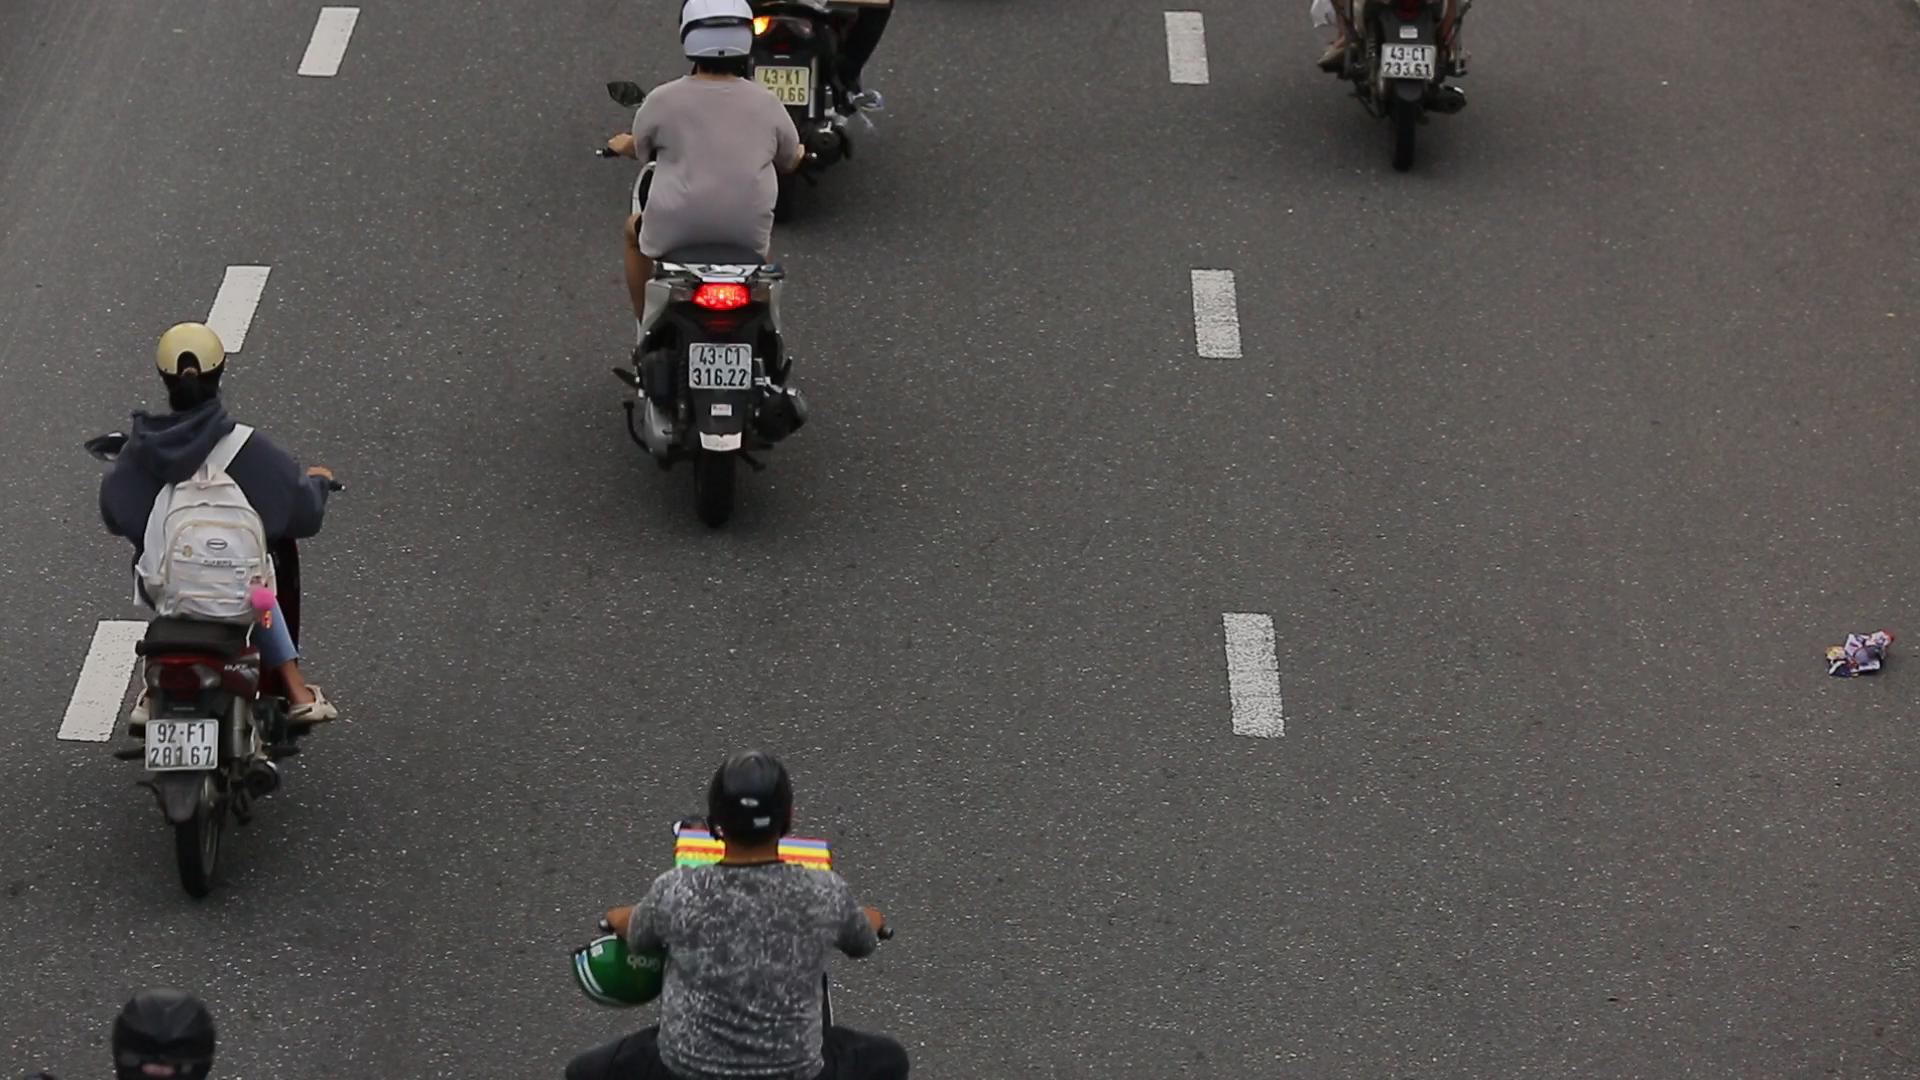motobike: (79, 319, 355, 911), (583, 0, 823, 537)
